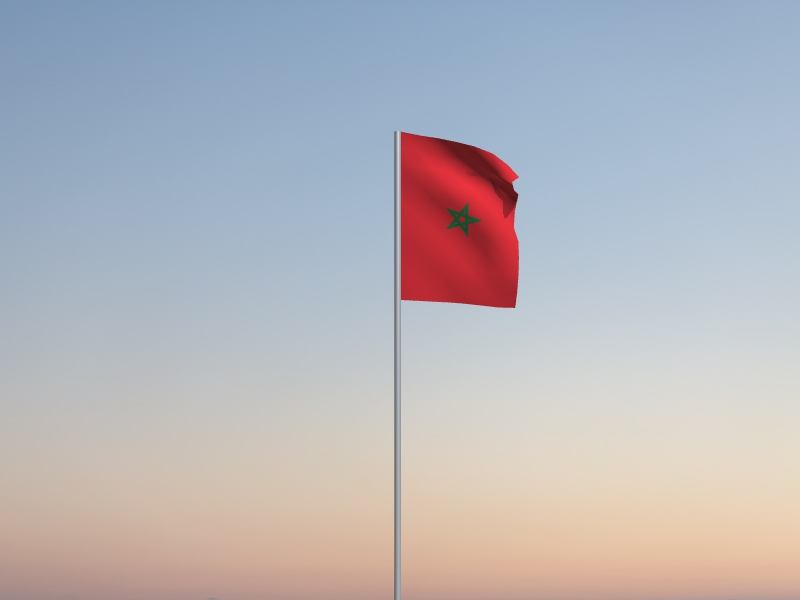ma: (402, 132, 521, 310)
